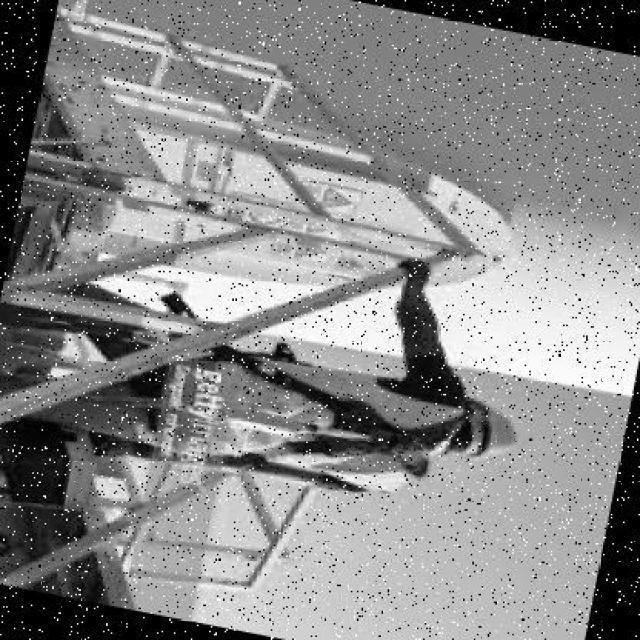Arnes_seguridad: (0, 294, 486, 511)
